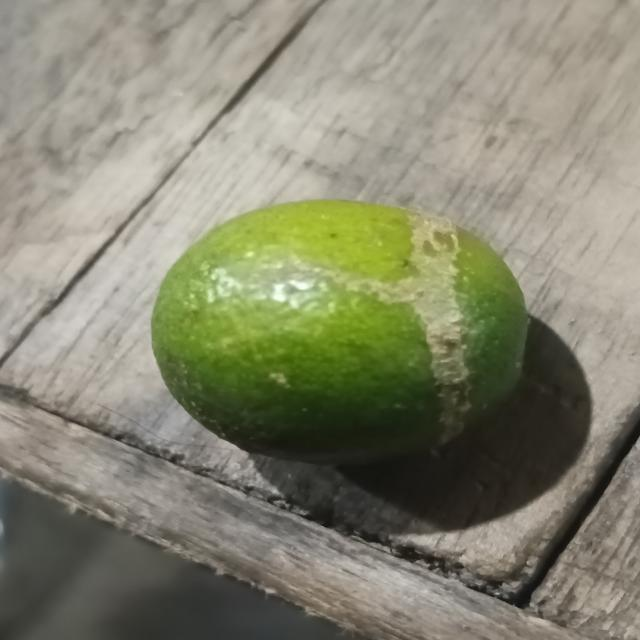thrips: (147, 194, 538, 466)
